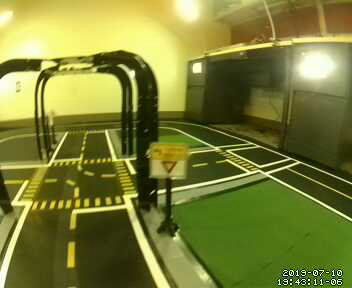Turn Yield: (150, 142, 187, 178)
